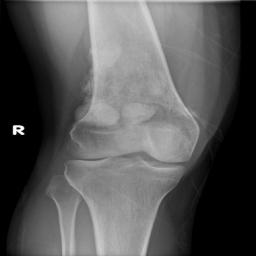cancer: (78, 7, 185, 130)
